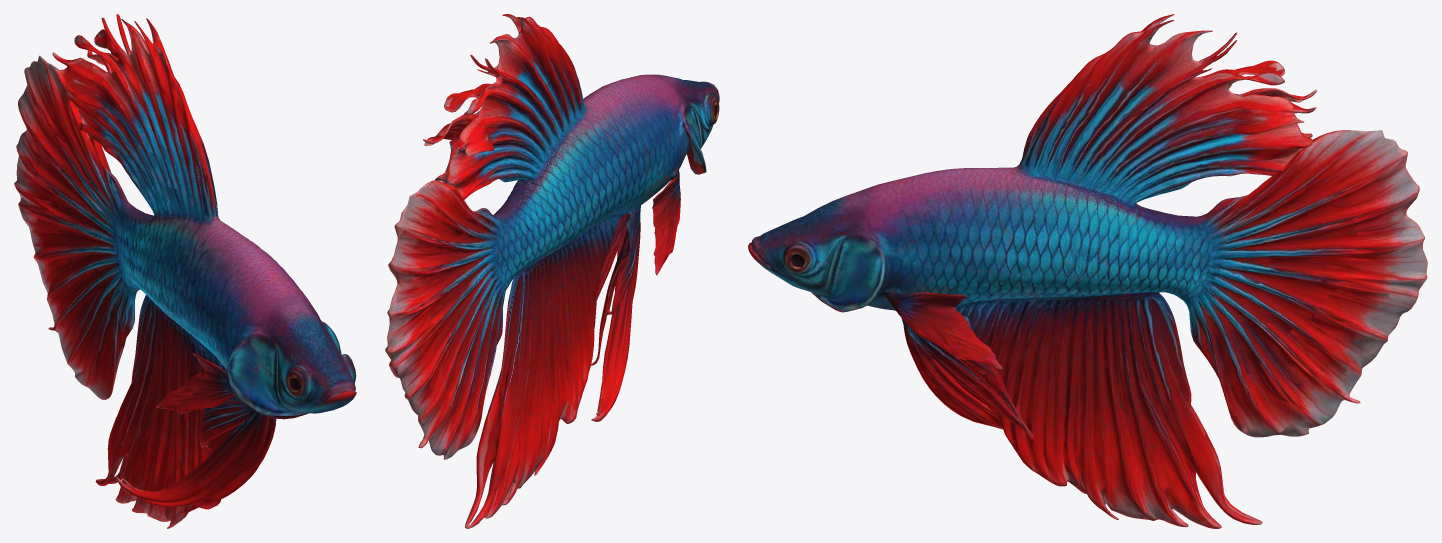
Rendered from Betta.glb.
The picture shows the model from 3 angles, left to right: view 1: azimuth 30°, elevation 25°; view 2: azimuth 150°, elevation 25°; view 3: azimuth 270°, elevation 25°; orthographic projection. The views are drawn at different scales.
Size of the model in its own units: 0.4529 by 1.57 by 1.9.
1 material, 1 textured.
